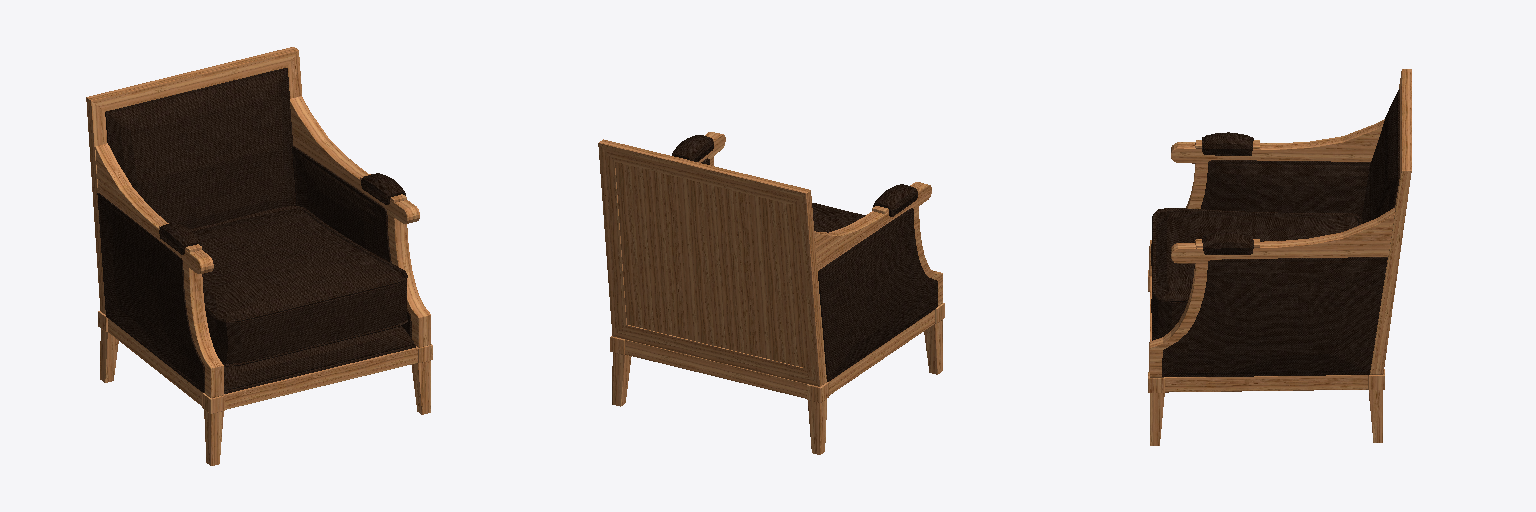
3 views of the same model, side by side, from view 1: azimuth 30°, elevation 25°; view 2: azimuth 150°, elevation 25°; view 3: azimuth 270°, elevation 25° (orthographic).
Bounding box in the file's own units: 0.79 × 0.9 × 0.7899.
2 materials, 2 textured.